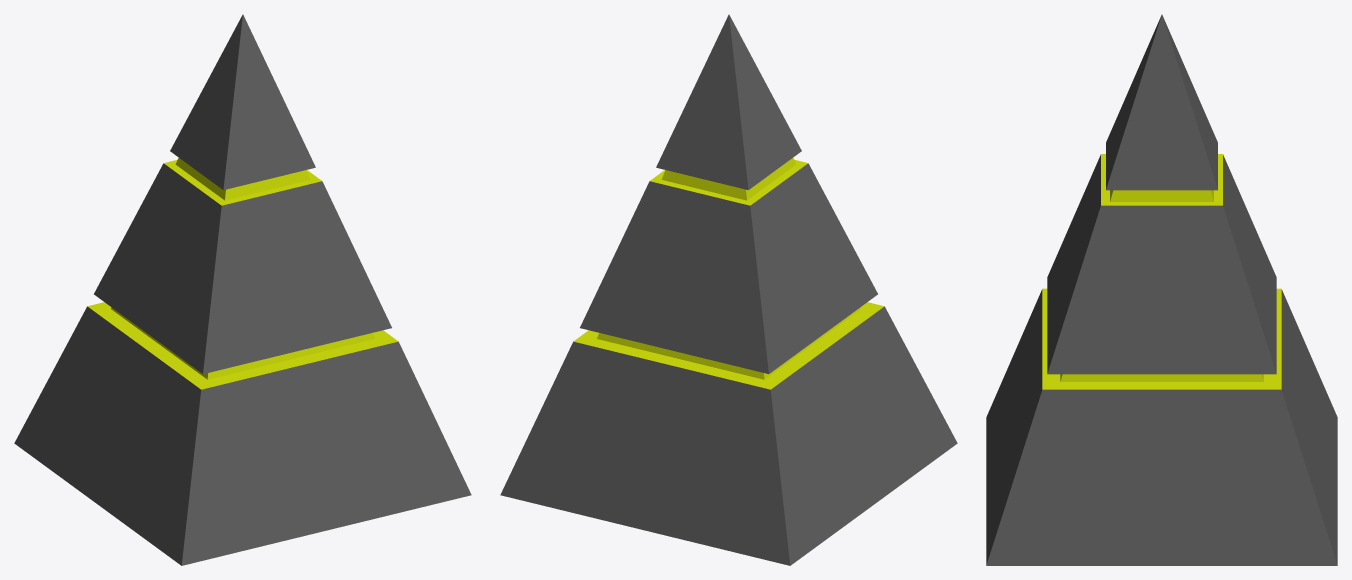
Rendered from SpikeWide.fbx.
3 views of the same model, side by side, from view 1: azimuth 30°, elevation 25°; view 2: azimuth 150°, elevation 25°; view 3: azimuth 270°, elevation 25° (orthographic). The views are drawn at different scales.
Visible parts, largest first — view 1: SpikeWide; view 2: SpikeWide; view 3: SpikeWide.
Boxes of the visible parts, x1,y1,x2,y2 form: SpikeWide: (14,14,471,565); SpikeWide: (500,14,957,565); SpikeWide: (986,14,1337,565).
Size of the model in its own units: 200 by 300 by 200.
